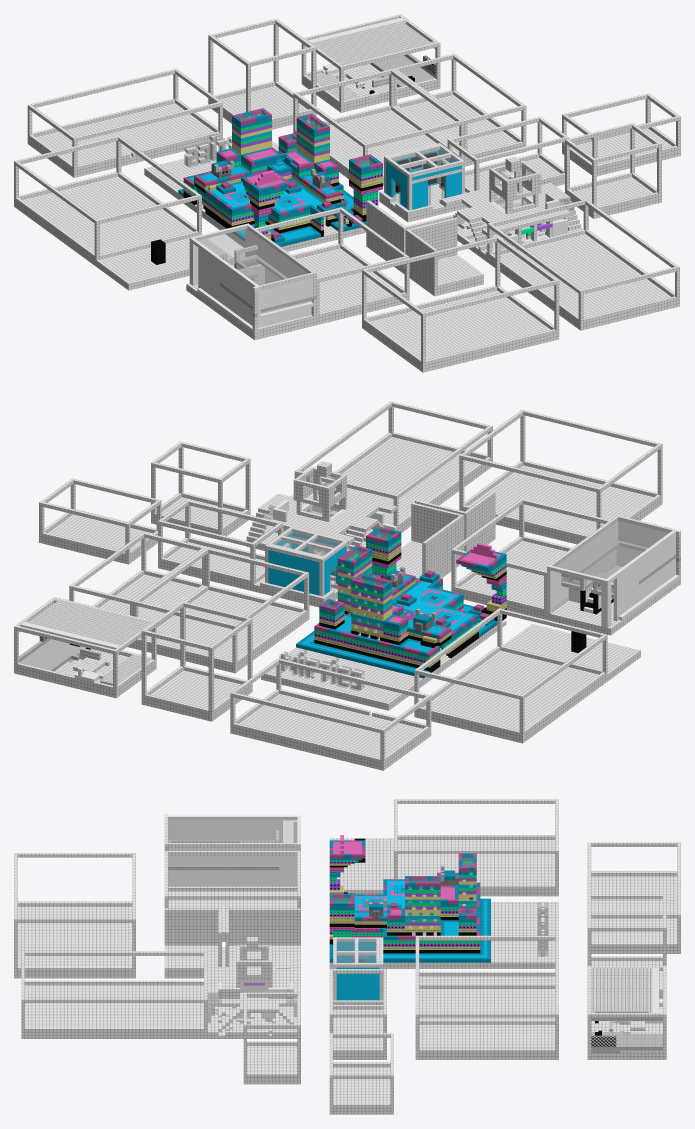
File: Axies-v1.glb
3 views of the same model, one above another, from view 1: azimuth 30°, elevation 25°; view 2: azimuth 150°, elevation 25°; view 3: azimuth 270°, elevation 25° (orthographic). The views are drawn at different scales.
Visible parts, largest first — view 1: solid-voxels_11.001, solid-voxels_9.001, solid-voxels_2.001, solid-voxels_6.001, solid-voxels_13.001, solid-voxels_14.001, solid-voxels_8.001, solid-voxels_10.001, solid-voxels_12.001, solid-voxels_16.001, solid-voxels_4.001, solid-voxels_17.001 (+11 smaller); view 2: solid-voxels_11.001, solid-voxels_6.001, solid-voxels_13.001, solid-voxels_14.001, solid-voxels_9.001, solid-voxels_8.001, solid-voxels_2.001, solid-voxels_12.001, solid-voxels_10.001, solid-voxels_5.001, solid-voxels_16.001, solid-voxels.001 (+12 smaller); view 3: solid-voxels_11.001, solid-voxels_2.001, solid-voxels_9.001, solid-voxels_6.001, solid-voxels_13.001, solid-voxels_14.001, solid-voxels_4.001, solid-voxels_8.001, solid-voxels_10.001, solid-voxels_12.001, solid-voxels_16.001, solid-voxels_15.001 (+12 smaller).
Part boxes in pixels (x1,y1,x2,y2): solid-voxels_11.001: (176, 108, 382, 251); solid-voxels_9.001: (362, 236, 559, 372); solid-voxels_2.001: (487, 199, 679, 330); solid-voxels_6.001: (14, 135, 201, 266); solid-voxels_13.001: (186, 223, 316, 340); solid-voxels_14.001: (27, 68, 222, 177); solid-voxels_8.001: (301, 14, 440, 112); solid-voxels_10.001: (441, 156, 582, 261); solid-voxels_12.001: (293, 69, 464, 186); solid-voxels_16.001: (255, 207, 409, 324); solid-voxels_4.001: (393, 53, 526, 166); solid-voxels_17.001: (379, 143, 468, 222); solid-voxels_11.001: (294, 526, 506, 685); solid-voxels_6.001: (414, 608, 607, 743); solid-voxels_13.001: (547, 515, 680, 635); solid-voxels_14.001: (230, 658, 431, 770); solid-voxels_9.001: (459, 409, 662, 544); solid-voxels_8.001: (14, 597, 156, 698); solid-voxels_2.001: (294, 401, 492, 532); solid-voxels_12.001: (133, 548, 309, 673); solid-voxels_10.001: (246, 461, 396, 555); solid-voxels_5.001: (141, 601, 252, 721); solid-voxels_16.001: (451, 498, 609, 619); solid-voxels.001: (39, 478, 161, 564); solid-voxels_11.001: (329, 835, 494, 968); solid-voxels_2.001: (21, 951, 207, 1038); solid-voxels_9.001: (14, 853, 135, 978); solid-voxels_6.001: (394, 799, 558, 896); solid-voxels_13.001: (164, 814, 300, 886); solid-voxels_14.001: (587, 842, 680, 953); solid-voxels_4.001: (415, 984, 558, 1059); solid-voxels_8.001: (587, 966, 666, 1059); solid-voxels_10.001: (207, 936, 300, 1038); solid-voxels_12.001: (415, 935, 558, 1019); solid-voxels_16.001: (164, 851, 300, 941); solid-voxels_15.001: (494, 902, 558, 968).
Size of the model in its own units: 89 by 12 by 93.
Materials: 2 (1 with a texture image).
